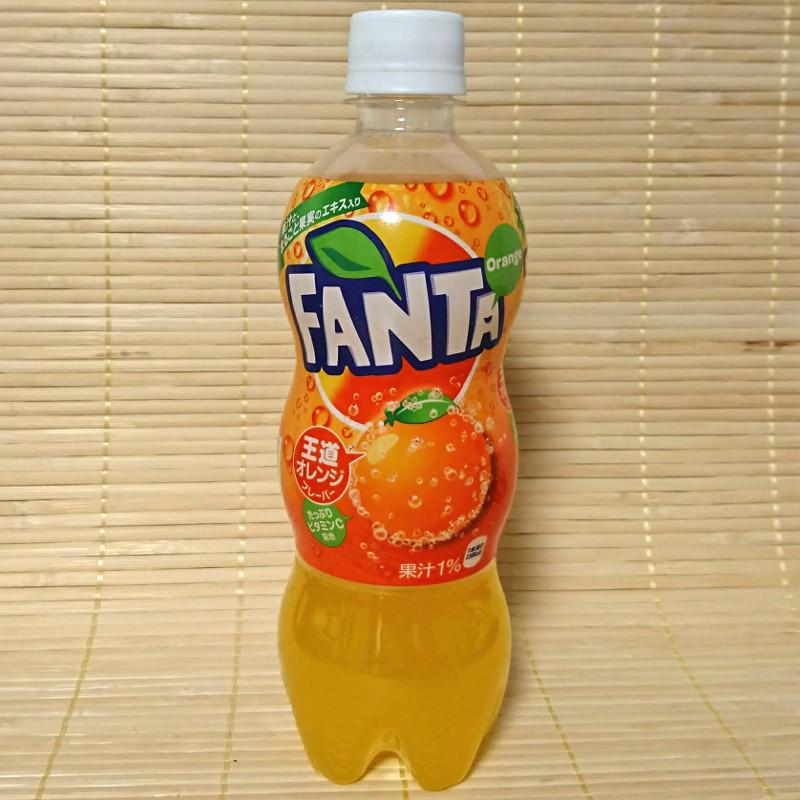Fanta: (289, 13, 501, 777)
